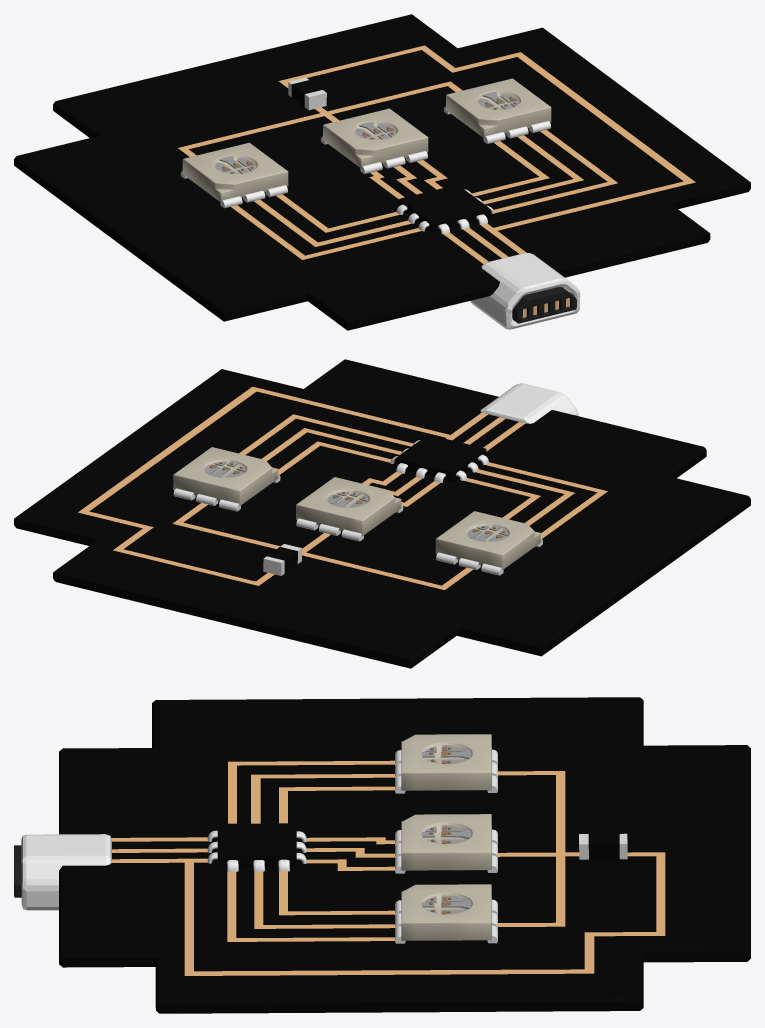
Rendered from RGB LEDs.glb.
The picture shows the model from 3 angles, top to bottom: view 1: azimuth 30°, elevation 25°; view 2: azimuth 150°, elevation 25°; view 3: azimuth 270°, elevation 25°; orthographic projection. The views are drawn at different scales.
Visible parts, largest first — view 1: RGB LEDs; view 2: RGB LEDs; view 3: RGB LEDs.
Part boxes in pixels (box(x1,y1,x2,y2)): RGB LEDs: box(14, 14, 750, 330); RGB LEDs: box(14, 359, 750, 668); RGB LEDs: box(14, 697, 750, 1013).
Size of the model in its own units: 0.0385 by 0.00393 by 0.0395.
